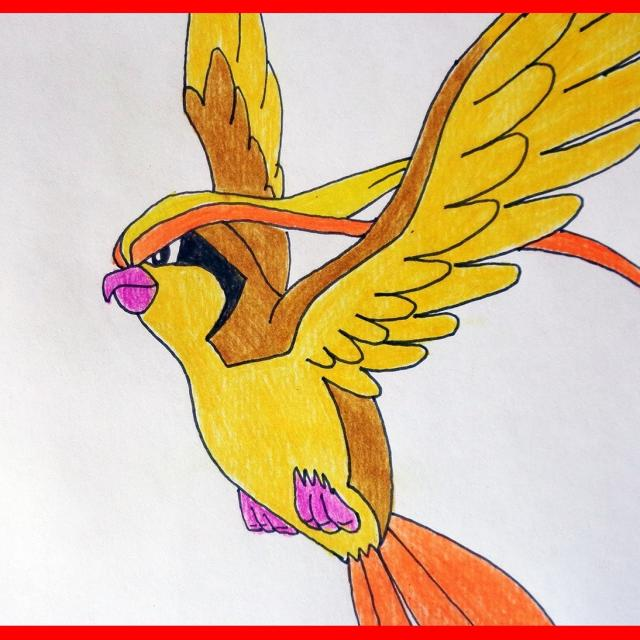Pidgeot: (78, 20, 640, 586)
